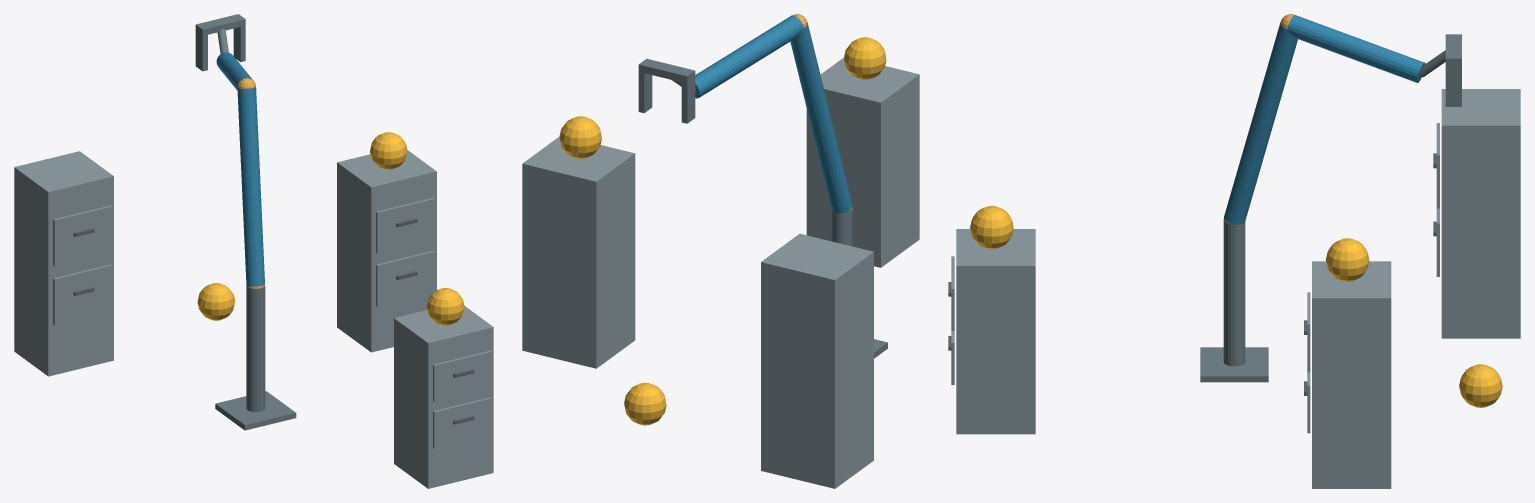
The picture shows the model from 3 angles, left to right: view 1: azimuth 30°, elevation 25°; view 2: azimuth 150°, elevation 25°; view 3: azimuth 270°, elevation 25°; orthographic projection. The views are drawn at different scales.
Visible parts, largest first — view 1: cabinet_3 body, cabinet_1 body, cabinet_2 body, moving link 1, cabinet_3 drawer front, cabinet_3 drawer front.001, cabinet_2 drawer front, cabinet_2 drawer front.001, fixed post, cabinet_1 drawer front, cabinet_1 drawer front.001, pedestal (+5 smaller); view 2: cabinet_3 body, cabinet_2 body, cabinet_1 body, moving link 1, moving link 2, ball ball_3, released ball_1, released ball_2, gripper bridge, fixed post, gripper finger -1, gripper finger 1; view 3: cabinet_3 body, cabinet_2 body, cabinet_1 body, moving link 1, fixed post, moving link 2, pedestal, released ball_1, ball ball_3, released ball_2, gripper finger 1.
Part boxes in pixels (<box>): cabinet_3 body: <box>14,151,113,376</box>; cabinet_1 body: <box>394,306,493,488</box>; cabinet_2 body: <box>337,150,436,352</box>; moving link 1: <box>237,87,264,286</box>; cabinet_3 drawer front: <box>53,264,112,325</box>; cabinet_3 drawer front.001: <box>53,205,112,266</box>; cabinet_2 drawer front: <box>376,250,434,306</box>; cabinet_2 drawer front.001: <box>376,197,434,253</box>; fixed post: <box>246,285,265,411</box>; cabinet_1 drawer front: <box>433,397,491,448</box>; cabinet_1 drawer front.001: <box>433,350,491,401</box>; pedestal: <box>215,391,296,430</box>; cabinet_3 body: <box>761,233,873,488</box>; cabinet_2 body: <box>522,136,635,368</box>; cabinet_1 body: <box>806,57,919,267</box>; moving link 1: <box>790,21,852,213</box>; moving link 2: <box>695,15,803,98</box>; ball ball_3: <box>624,382,666,425</box>; released ball_1: <box>844,37,886,79</box>; released ball_2: <box>559,116,601,158</box>; gripper bridge: <box>638,58,695,83</box>; fixed post: <box>831,209,852,246</box>; gripper finger -1: <box>681,78,695,123</box>; gripper finger 1: <box>638,72,652,113</box>; cabinet_3 body: <box>1441,89,1520,338</box>; cabinet_2 body: <box>1312,261,1391,488</box>; cabinet_1 body: <box>956,229,1035,434</box>; moving link 1: <box>1224,22,1297,224</box>; fixed post: <box>1223,220,1245,366</box>; moving link 2: <box>1287,14,1425,82</box>; pedestal: <box>1200,347,1268,382</box>; released ball_1: <box>970,206,1013,249</box>; ball ball_3: <box>1459,364,1502,407</box>; released ball_2: <box>1326,238,1369,281</box>; gripper finger 1: <box>1445,66,1461,106</box>.
Size of the model in its own units: 1.62 by 1.46 by 2.1.
